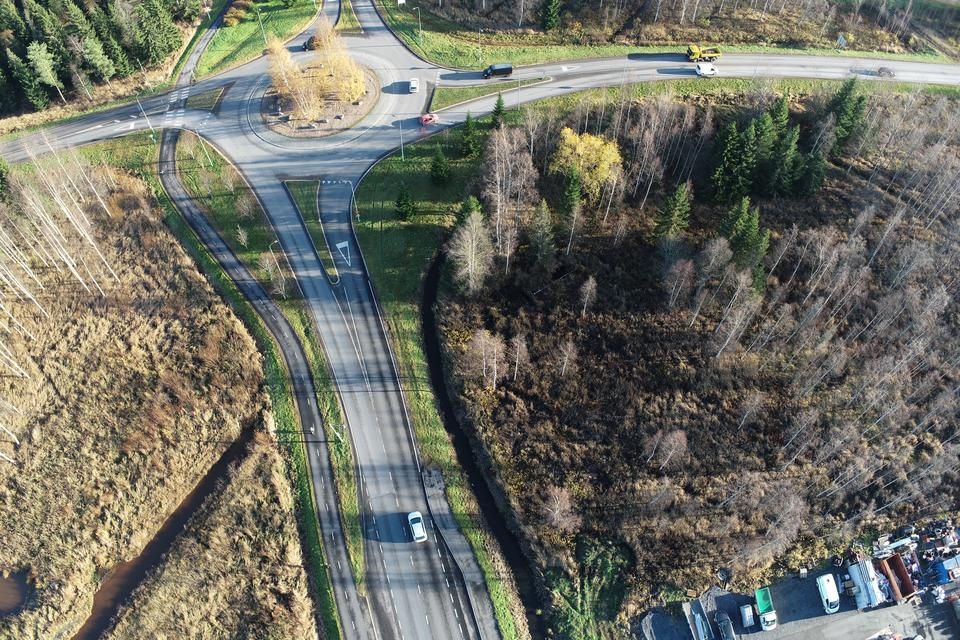intersection: (148, 64, 205, 148)
roundabout: (212, 1, 495, 231)
